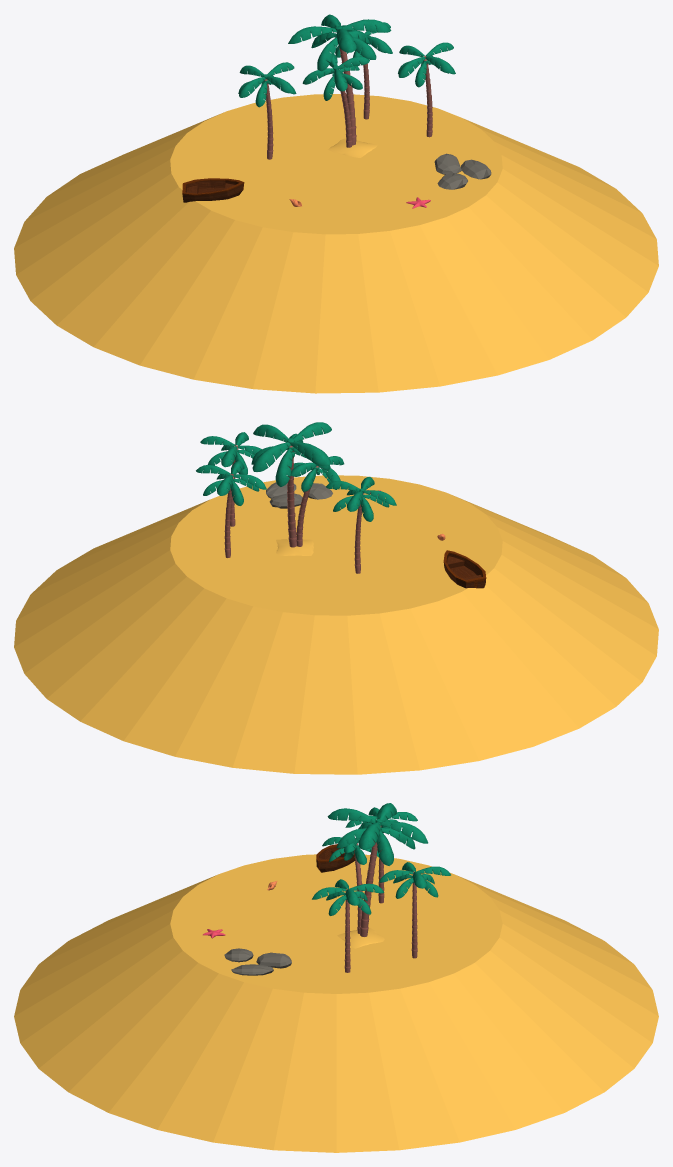
The model's file is loc.gltf.
3 views of the same model, one above another, from view 1: azimuth 30°, elevation 25°; view 2: azimuth 150°, elevation 25°; view 3: azimuth 270°, elevation 25° (orthographic).
Parts seen in each view (by area): view 1: send, boat; view 2: send, boat, palm_tree_17.001, palm_tree_37, palm_tree_47, palm_tree_46; view 3: send, boat, palm_tree_17.001.
Boxes of the visible parts, left/top/right/bottom form: send: left=14, top=94, right=658, bottom=393; boat: left=182, top=178, right=244, bottom=202; send: left=14, top=475, right=658, bottom=774; boat: left=443, top=550, right=486, bottom=588; palm_tree_17.001: left=287, top=445, right=296, bottom=547; palm_tree_37: left=276, top=539, right=313, bottom=555; palm_tree_47: left=252, top=442, right=290, bottom=471; palm_tree_46: left=291, top=442, right=330, bottom=466; send: left=14, top=854, right=658, bottom=1152; boat: left=316, top=844, right=355, bottom=872; palm_tree_17.001: left=360, top=826, right=381, bottom=936.
Size of what is drawn, in the model's own units: 72.77 by 26.81 by 72.77.
6 materials, 2 textured.
